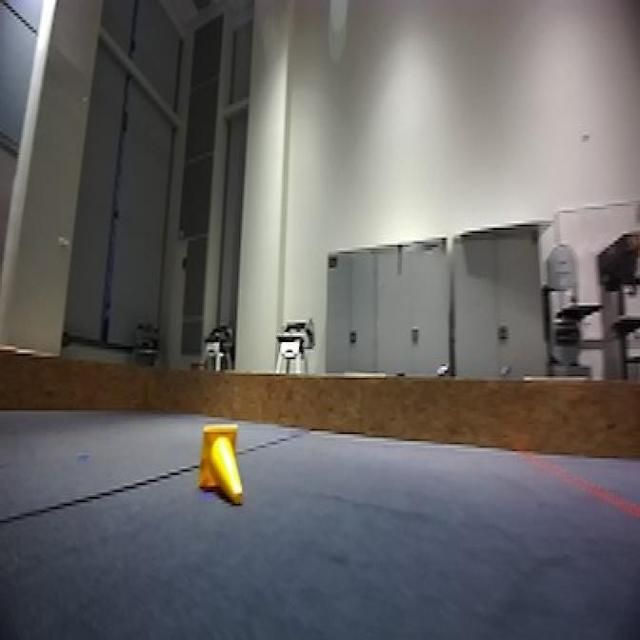frc_cone: (193, 422, 248, 509)
